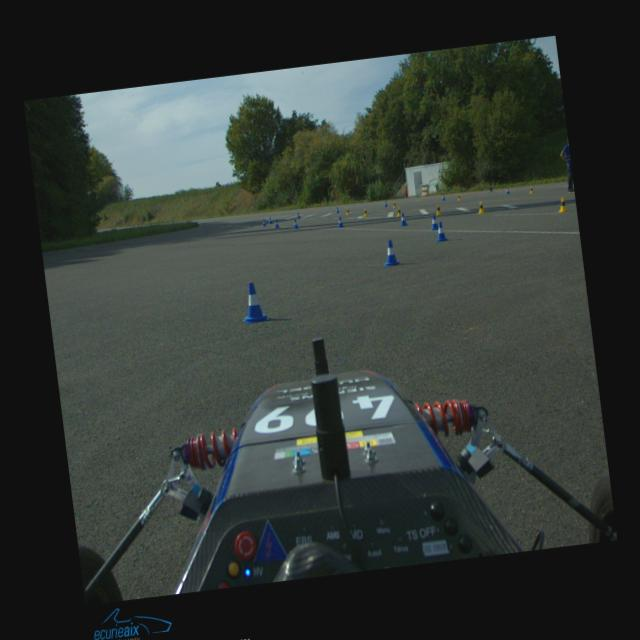blue_cone: (239, 280, 269, 324), (380, 238, 400, 266), (434, 220, 448, 242), (428, 213, 438, 230), (398, 212, 408, 225), (336, 216, 344, 228), (274, 218, 280, 228), (292, 219, 298, 228), (261, 218, 267, 226), (383, 200, 388, 206), (268, 217, 272, 224), (296, 212, 300, 218), (442, 194, 446, 200), (506, 187, 510, 193), (335, 207, 339, 212)
yellow_cone: (556, 195, 568, 212), (476, 200, 485, 213), (434, 203, 442, 214), (396, 206, 402, 216), (362, 208, 368, 216), (456, 193, 462, 200), (528, 186, 534, 193), (345, 207, 350, 215), (392, 202, 396, 208)
